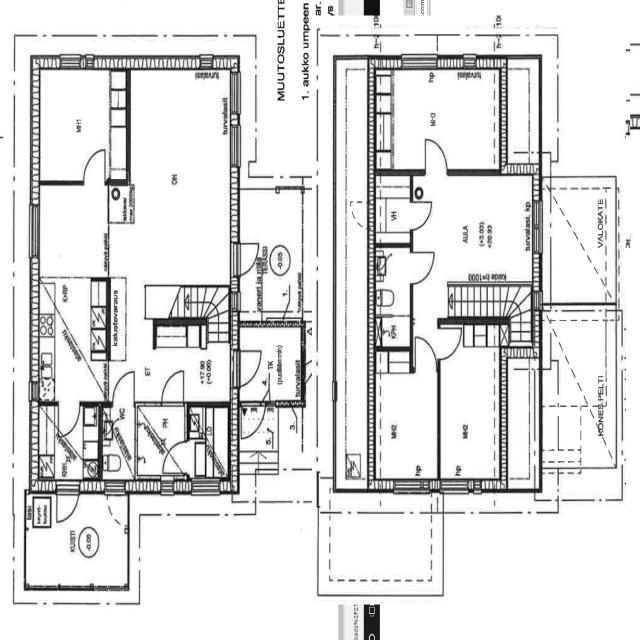door: (46, 400, 97, 479), (235, 336, 296, 400), (136, 408, 190, 480), (421, 134, 452, 176), (408, 246, 438, 288), (158, 366, 188, 408), (235, 346, 263, 391), (104, 482, 130, 530), (80, 144, 109, 186), (54, 481, 81, 526), (163, 438, 194, 476), (240, 399, 267, 441), (109, 367, 138, 406), (233, 238, 261, 278), (436, 322, 463, 362), (408, 196, 436, 232), (56, 401, 80, 436), (414, 334, 437, 369)
window: (25, 196, 43, 266), (227, 68, 245, 130), (554, 493, 610, 511), (227, 119, 244, 172), (530, 197, 545, 256), (399, 52, 439, 72), (392, 478, 428, 497), (440, 478, 476, 497), (57, 51, 88, 72), (190, 478, 222, 498), (32, 587, 59, 602), (93, 581, 121, 594), (10, 67, 20, 100), (34, 596, 57, 608), (461, 52, 479, 66)
zone: (122, 74, 235, 321), (411, 172, 538, 288), (379, 70, 501, 172), (542, 307, 613, 481), (34, 65, 125, 184), (439, 328, 502, 487), (34, 278, 110, 404), (235, 187, 304, 324), (548, 184, 615, 306), (374, 362, 439, 486), (142, 320, 234, 404), (34, 183, 110, 279), (236, 326, 304, 406), (502, 352, 538, 490), (39, 402, 100, 480), (501, 62, 539, 175), (135, 402, 188, 477), (374, 245, 412, 344), (189, 404, 229, 489), (100, 402, 136, 482), (374, 173, 412, 245)
